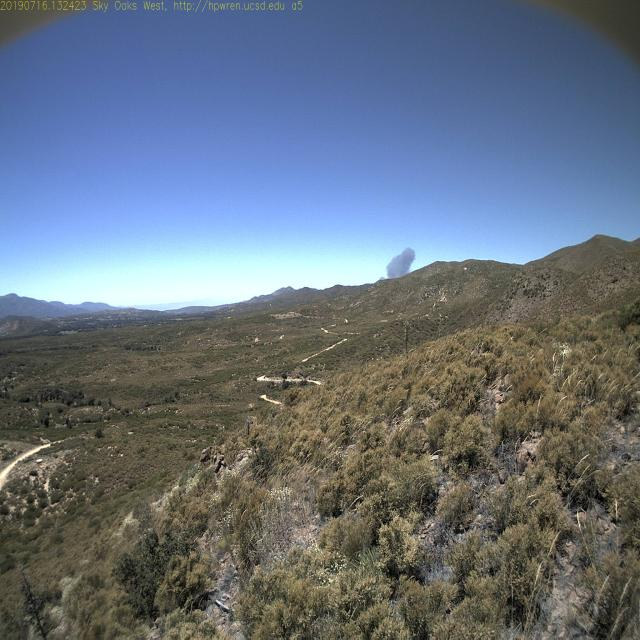smoke: (377, 240, 426, 285)
